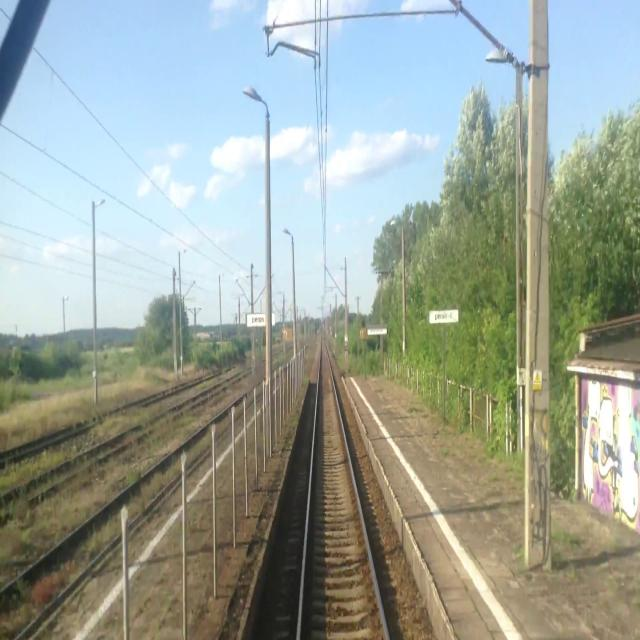rail-track: (301, 341, 385, 639), (0, 398, 198, 513), (0, 481, 142, 639), (0, 450, 17, 458)
